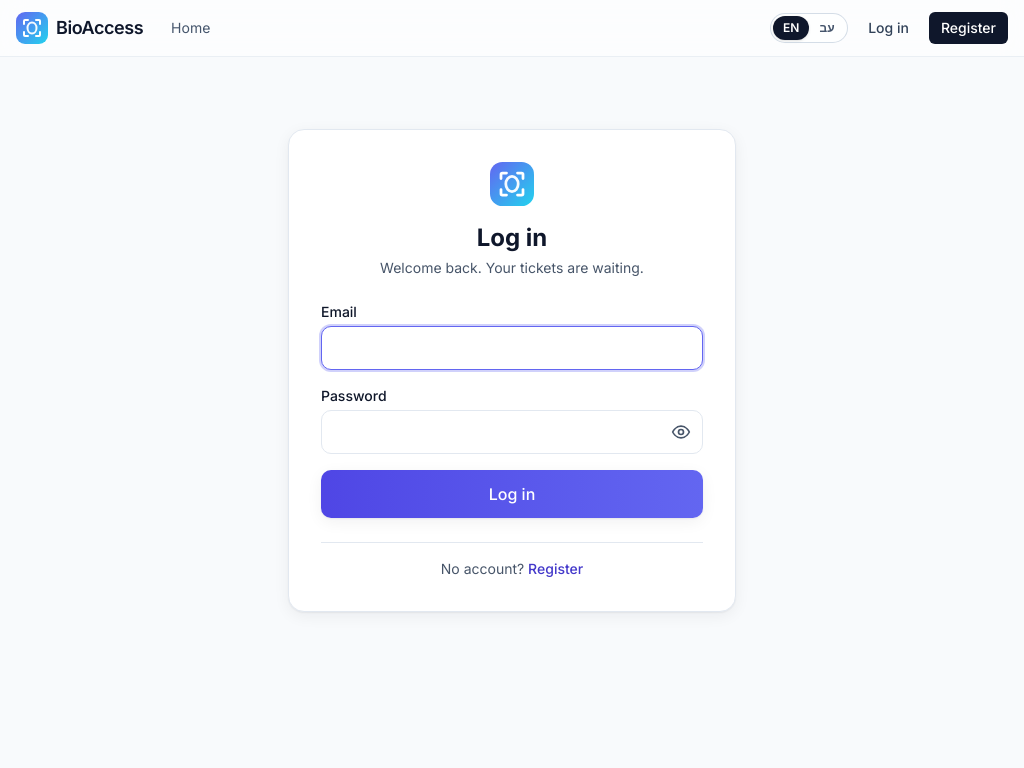
login › a ADMIN lands on /admin
This screenshot has width=1024, height=768.
Type "dana@example.com" into the field labelled "Email" at (512, 348), box [321,326,703,370]
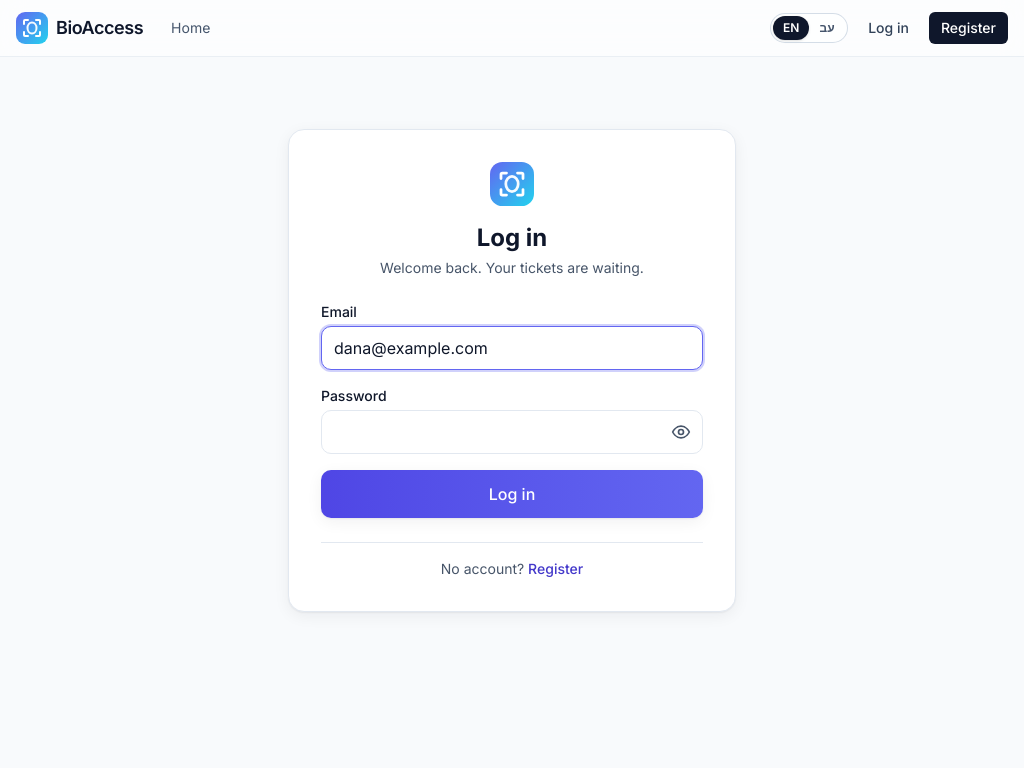
Type "password123" into the password field labelled "Password" at (512, 432), box [321,410,703,454]
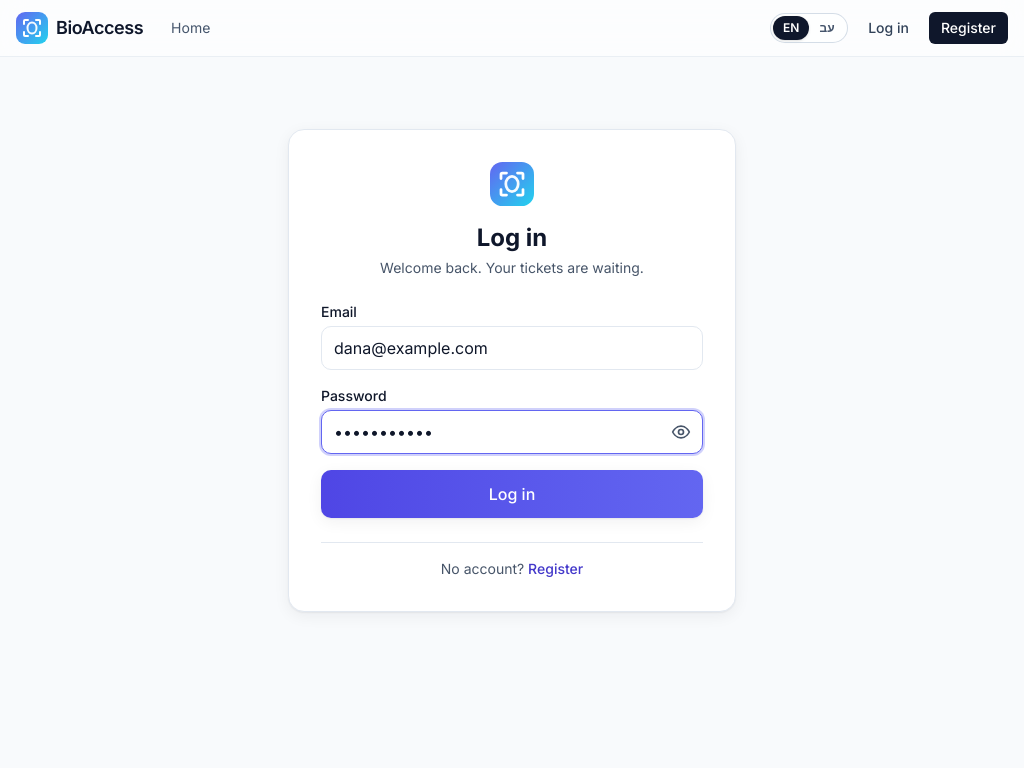
Click the button "Log in" at (512, 494), box [321,470,703,518]
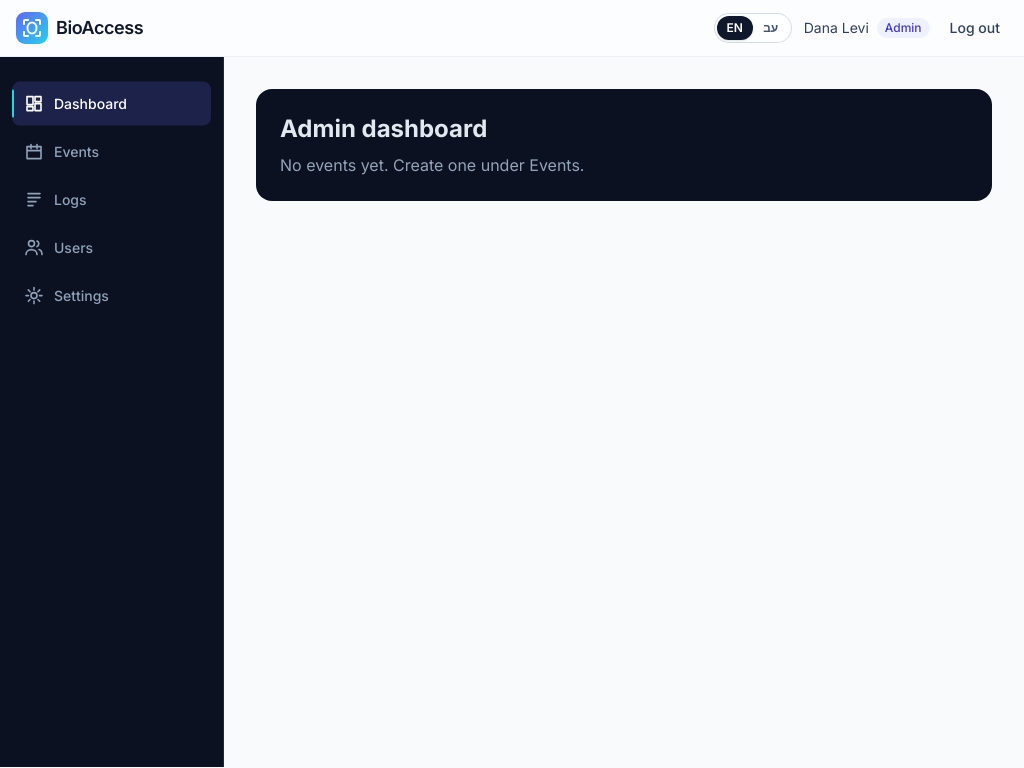
Result: the heading "Admin dashboard" is shown at [280,114,487,143]
Result: the text "Dana Levi" is shown at [804,18,869,38]
